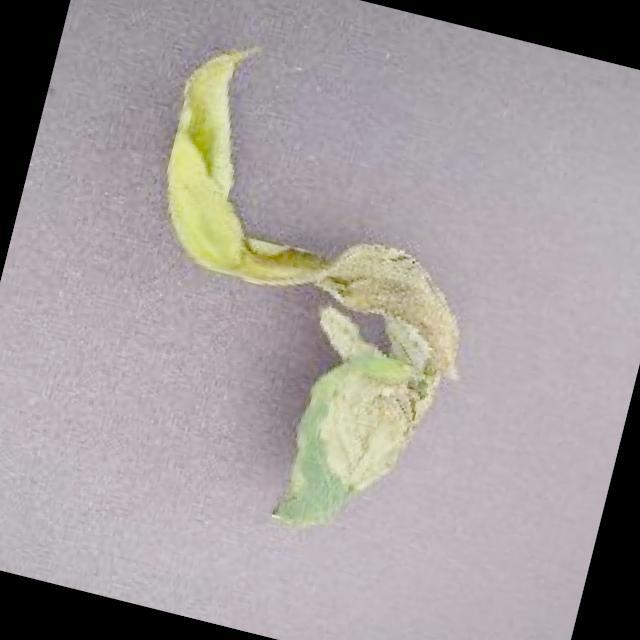Tomato late blight leaf: (81, 29, 528, 558)
